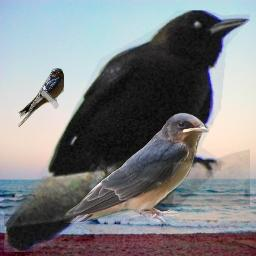Crow: (4, 10, 250, 252)
Swallow: (64, 112, 209, 229), (18, 68, 64, 127)
